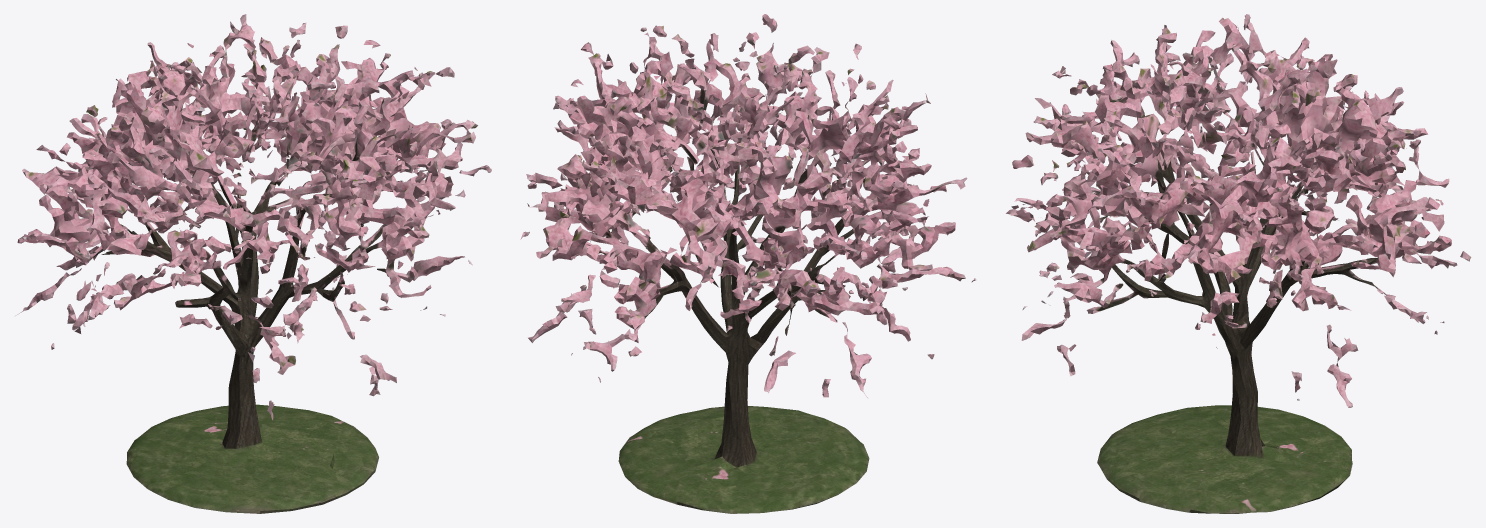
Rendered from Meshy_AI_Blossom_Tree_1004150825_texture.glb.
The picture shows the model from 3 angles, left to right: view 1: azimuth 30°, elevation 25°; view 2: azimuth 150°, elevation 25°; view 3: azimuth 270°, elevation 25°; orthographic projection. The views are drawn at different scales.
Visible parts, largest first — view 1: Mesh_0; view 2: Mesh_0; view 3: Mesh_0.
Part boxes in pixels (<box>): Mesh_0: <box>15,14,491,513</box>; Mesh_0: <box>520,14,976,513</box>; Mesh_0: <box>1006,14,1471,513</box>.
Size of the model in its own units: 1.28 by 1.3 by 1.24.
Materials: 1 (1 with a texture image).
